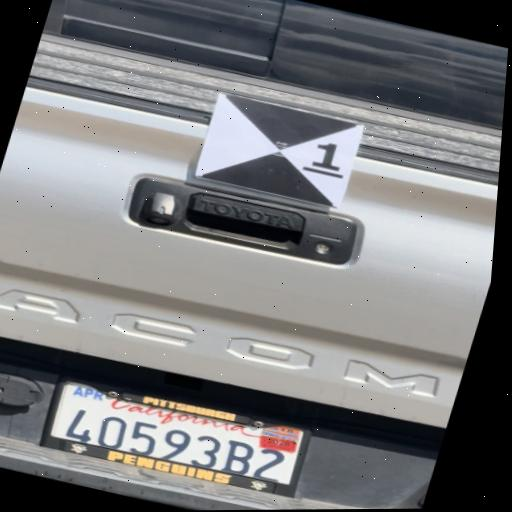target1: (190, 90, 365, 209)
